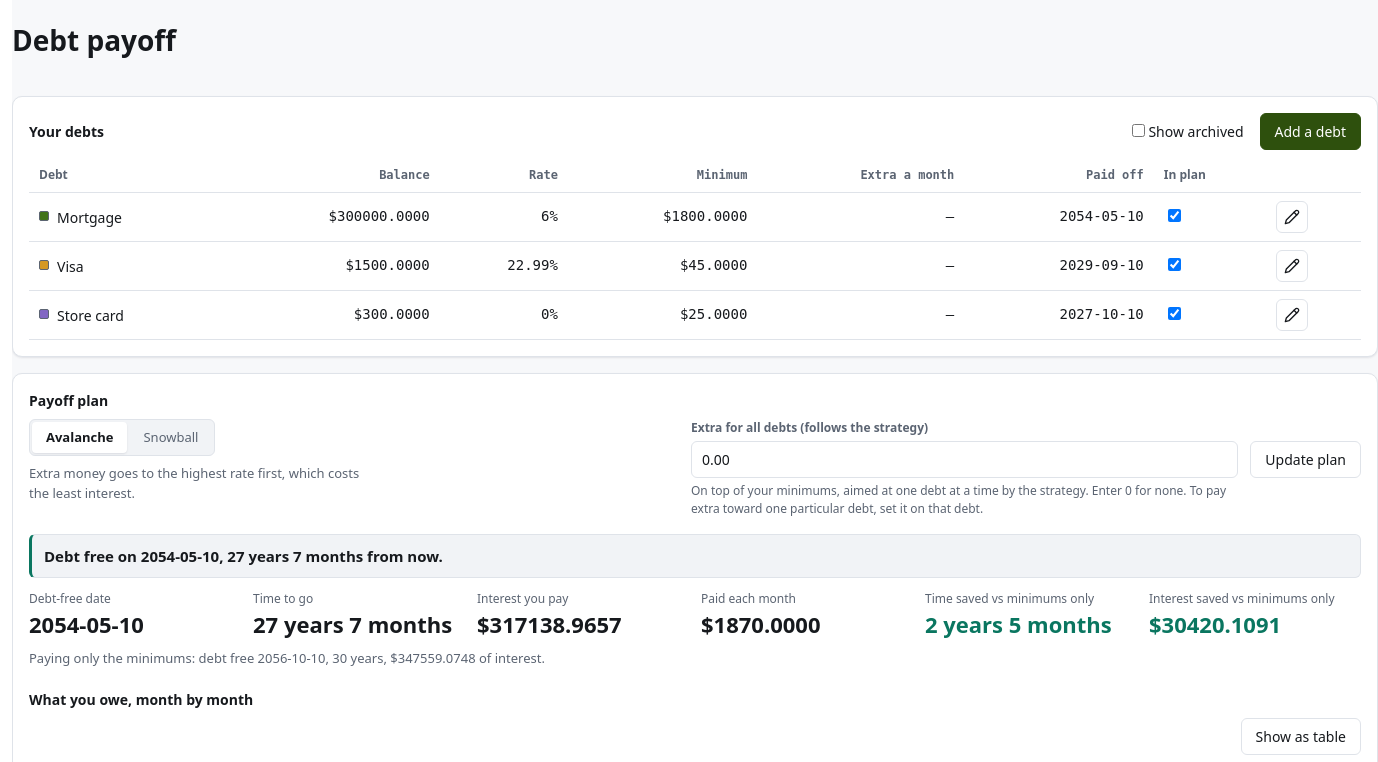
Test: leaving a debt out of the plan › names several, and says nothing is in the plan when all are out
expect the text "Debt free on 2054-05-10, 27 years 7 months from now." is shown: met, box left=29, top=534, right=1361, bottom=578
Click the checkbox named "Include Visa in the payoff plan". click: (1174, 264)
box: left=1168, top=258, right=1181, bottom=271
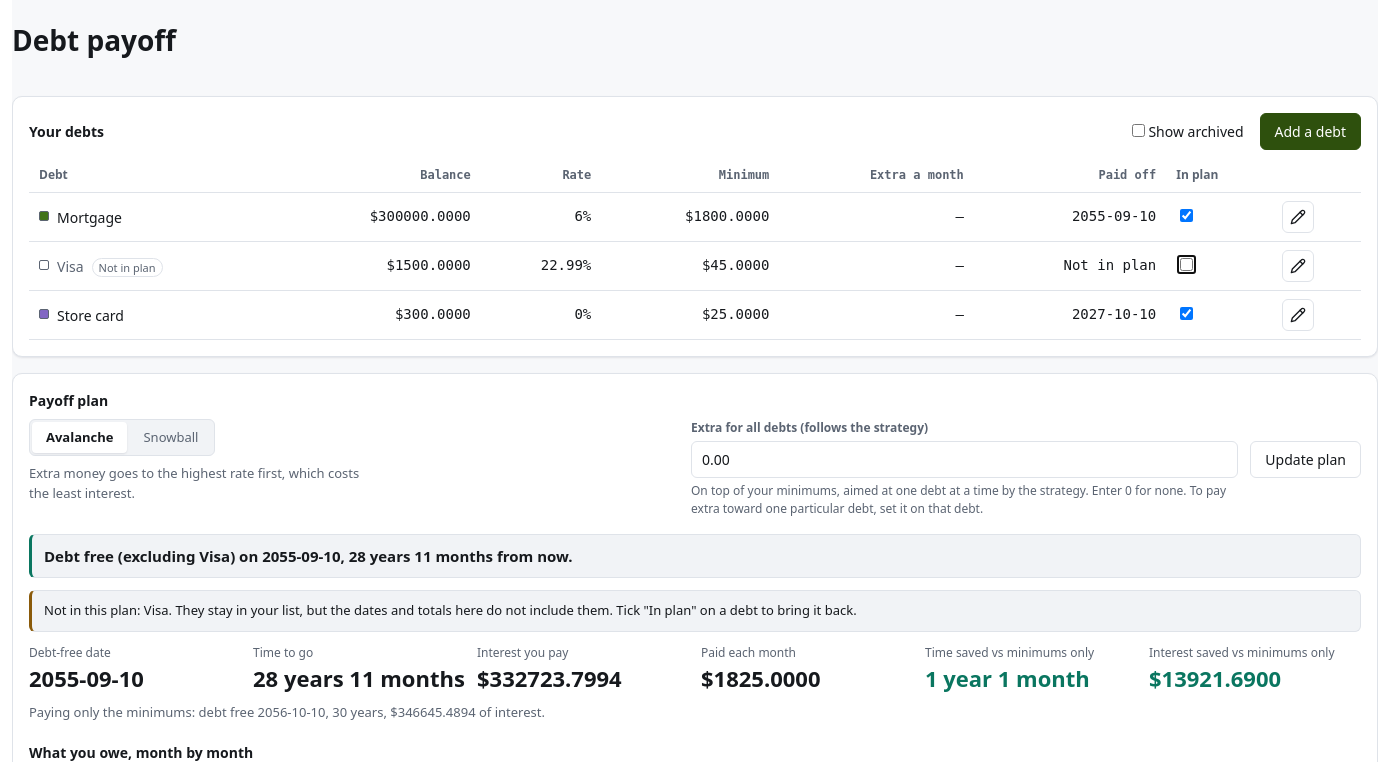
Click the checkbox named "Include Store card in the payoff plan". click: (1187, 314)
box: left=1180, top=307, right=1193, bottom=320
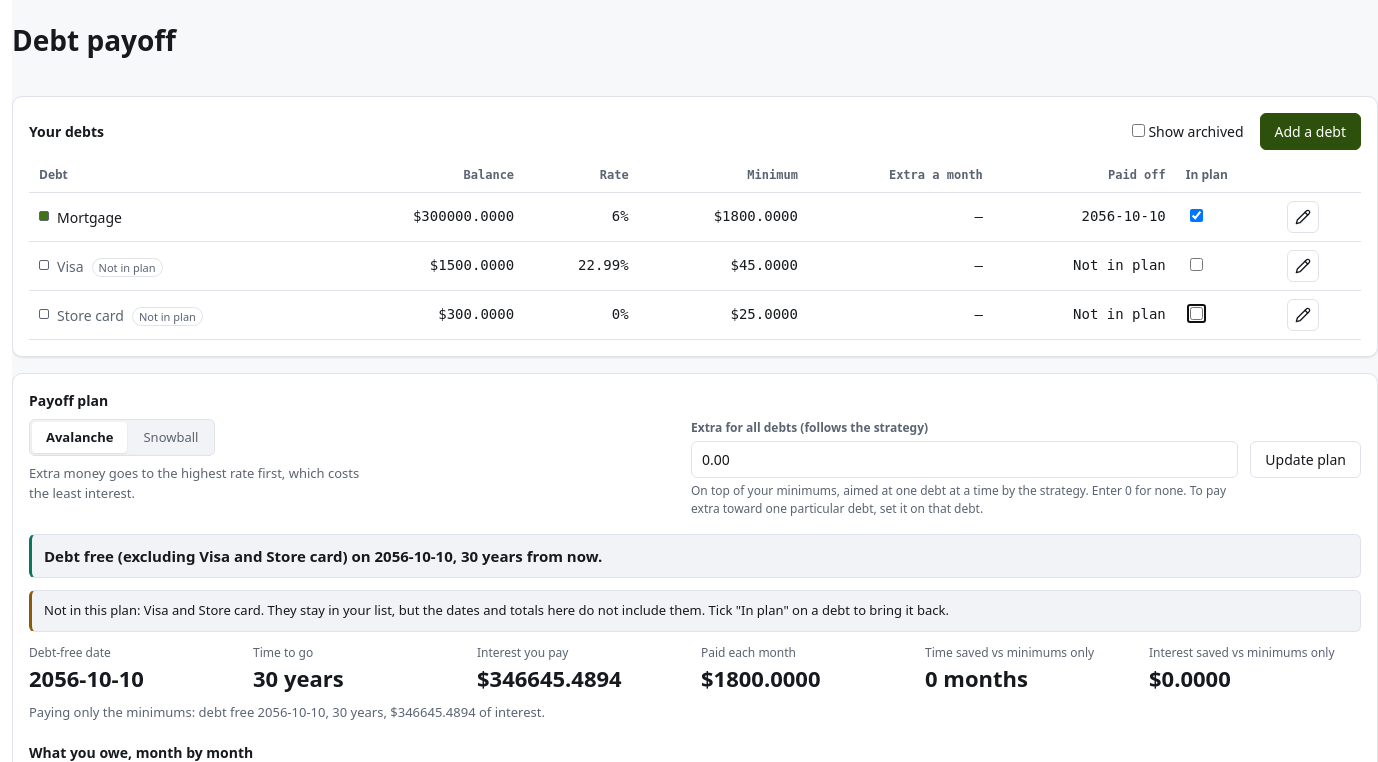
expect the text "Debt free (excluding Visa and Store card) on 2056-10-10, 30 years from now." is shown: met, box left=29, top=534, right=1361, bottom=578
Click the checkbox named "Include Mortgage in the payoff plan". click: (1196, 216)
box: left=1190, top=209, right=1203, bottom=222
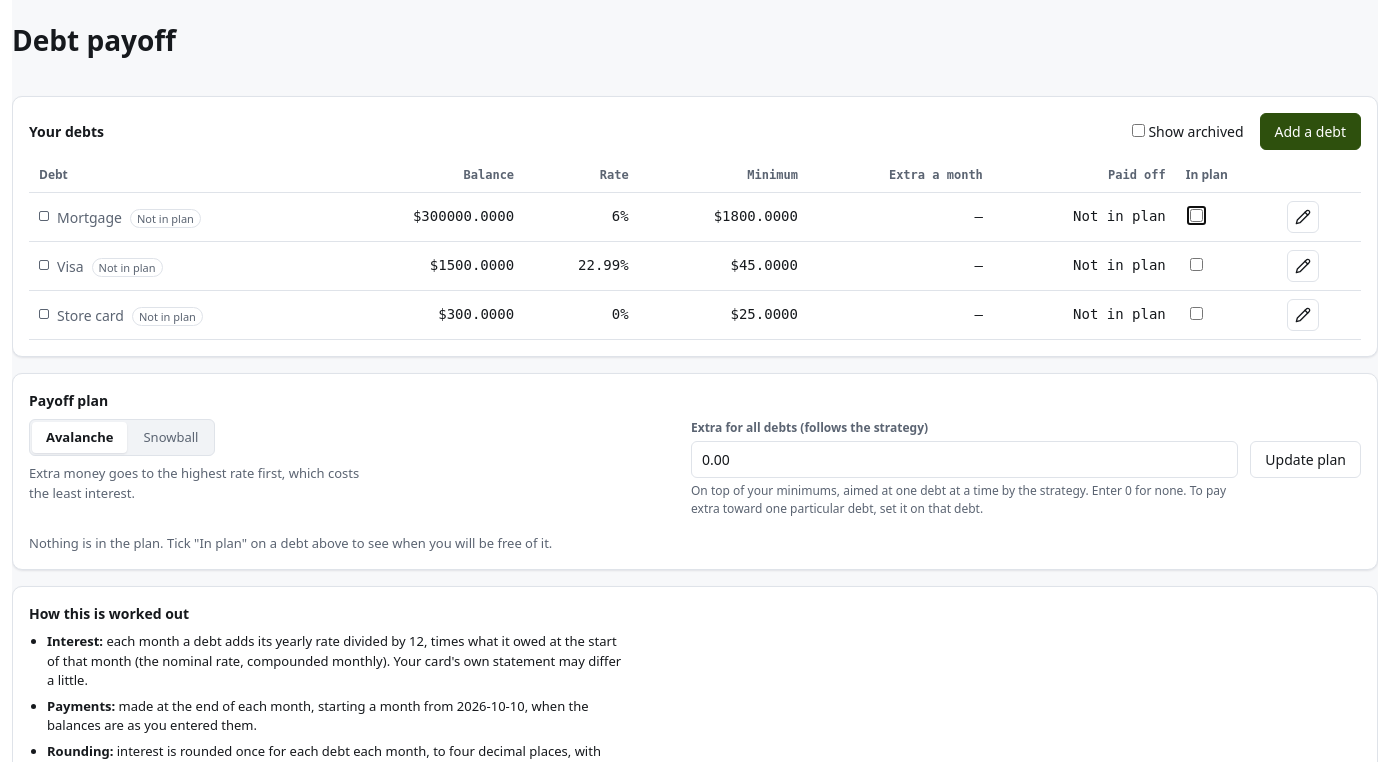
expect the number of checkboxes named "in the payoff plan" is 3: met, box left=1190, top=209, right=1203, bottom=222; left=1190, top=258, right=1203, bottom=271; left=1190, top=307, right=1203, bottom=320
expect the text "Debt free" is gone: met
